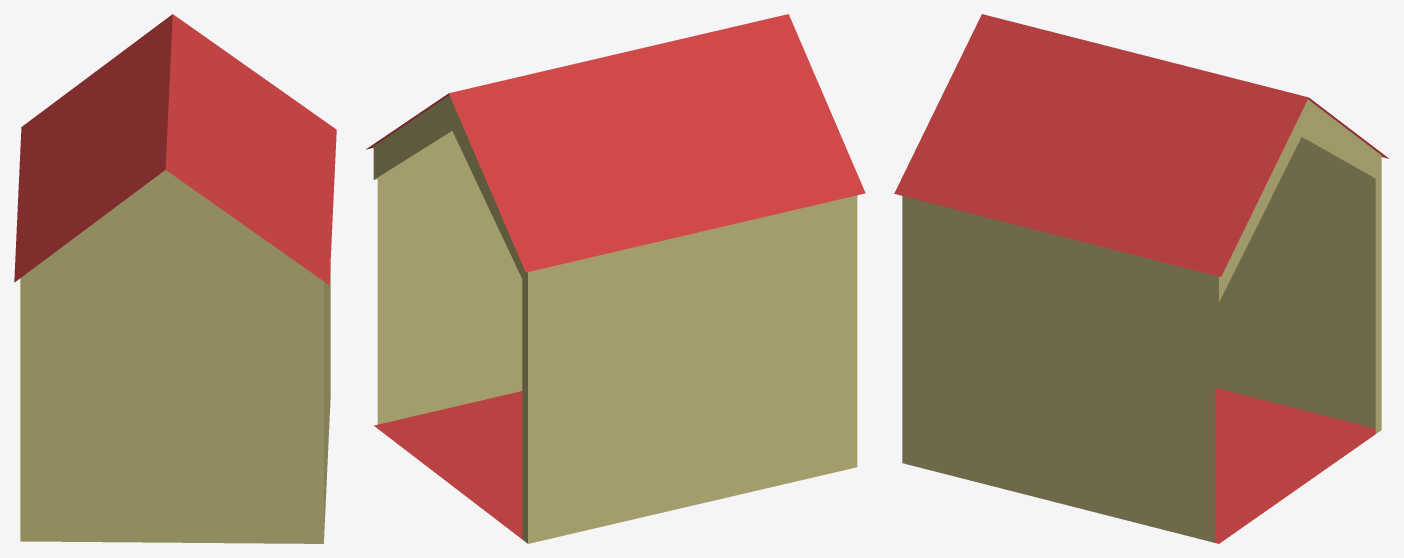
The picture shows the model from 3 angles, left to right: view 1: azimuth 30°, elevation 25°; view 2: azimuth 150°, elevation 25°; view 3: azimuth 270°, elevation 25°; orthographic projection. The views are drawn at different scales.
Parts seen in each view (by area): view 1: group_5, group_3, group_4; view 2: group_5, group_3, group_6, group_4; view 3: group_5, group_3, group_6, group_4.
Part boxes in pixels (x1=…): group_5: x1=20, y1=170, x2=330, y2=543; group_3: x1=20, y1=14, x2=336, y2=278; group_4: x1=14, y1=14, x2=336, y2=285; group_5: x1=373, y1=95, x2=857, y2=543; group_3: x1=407, y1=15, x2=856, y2=272; group_6: x1=374, y1=391, x2=522, y2=538; group_4: x1=366, y1=14, x2=865, y2=271; group_5: x1=902, y1=99, x2=1381, y2=542; group_3: x1=902, y1=14, x2=1306, y2=276; group_6: x1=1215, y1=388, x2=1375, y2=543; group_4: x1=894, y1=15, x2=1389, y2=276.
Size of the model in its own units: 19.81 by 20.59 by 17.81.
